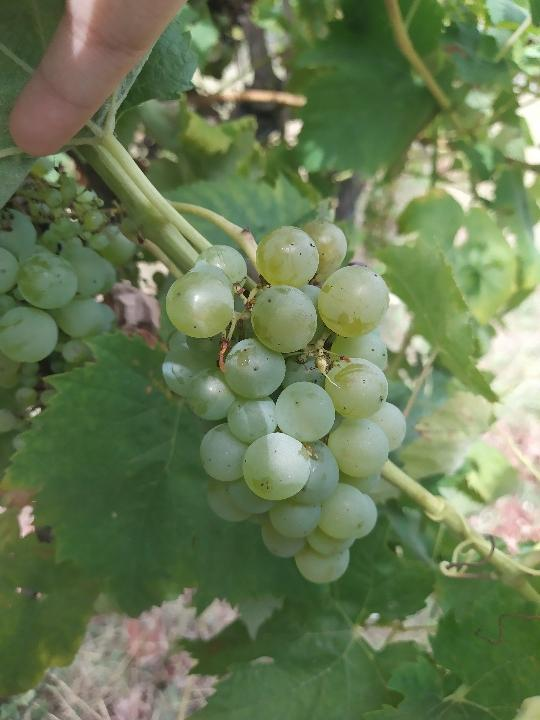grape: (159, 217, 410, 588)
